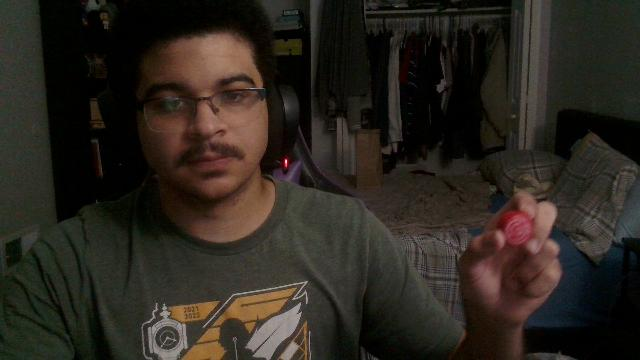cap: (499, 210, 533, 246)
